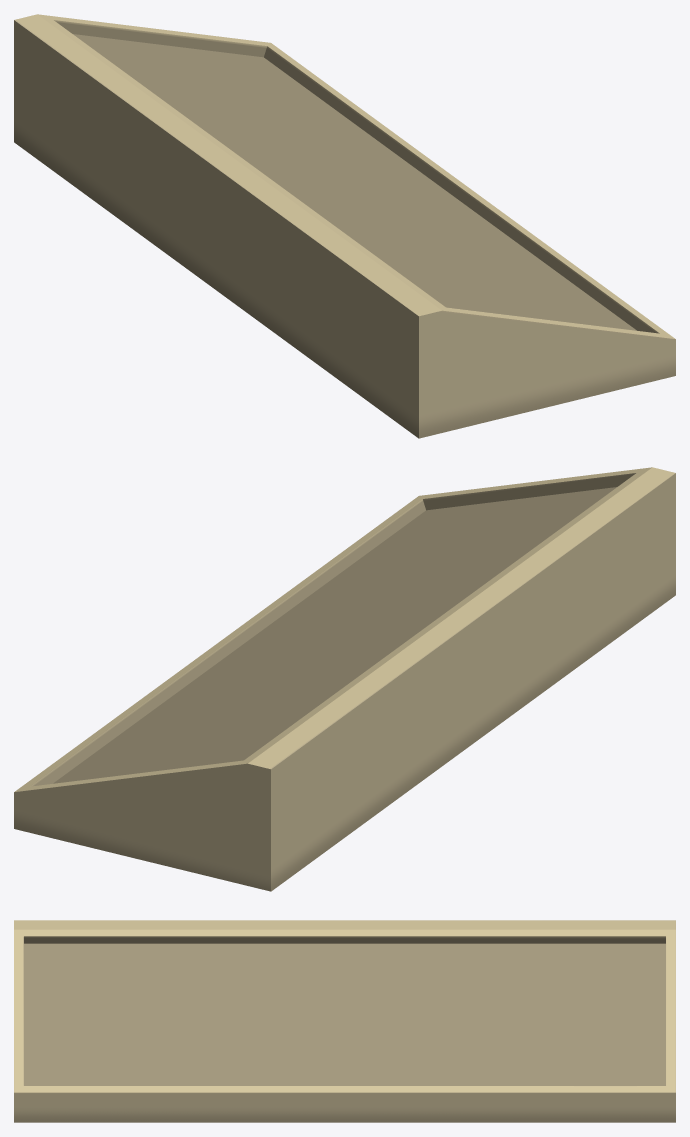
File: Typewriter Base.fbx
The picture shows the model from 3 angles, top to bottom: view 1: azimuth 30°, elevation 25°; view 2: azimuth 150°, elevation 25°; view 3: azimuth 270°, elevation 25°; orthographic projection. The views are drawn at different scales.
Visible parts, largest first — view 1: Typewriter Base; view 2: Typewriter Base; view 3: Typewriter Base.
Part boxes in pixels (x1,y1,x2,y2): Typewriter Base: [14, 14, 675, 438]; Typewriter Base: [14, 467, 675, 891]; Typewriter Base: [14, 920, 675, 1122].
Bounding box in the file's own units: 600 × 220 × 100.
